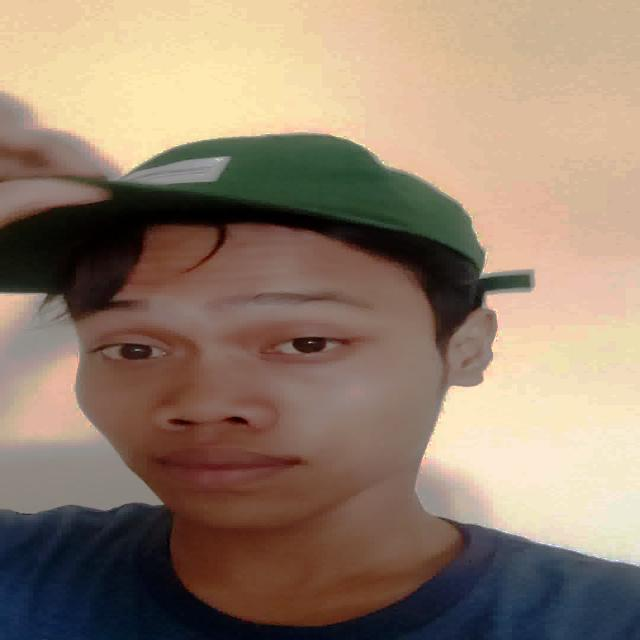TOPI: (0, 115, 516, 280)
